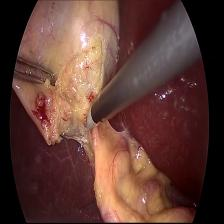Grasper: (14, 54, 55, 94)
Hook: (82, 97, 100, 138)
